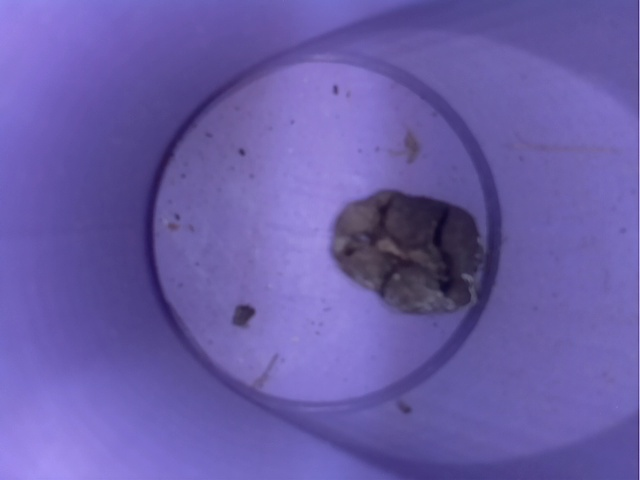ecorce: (324, 182, 498, 328)
